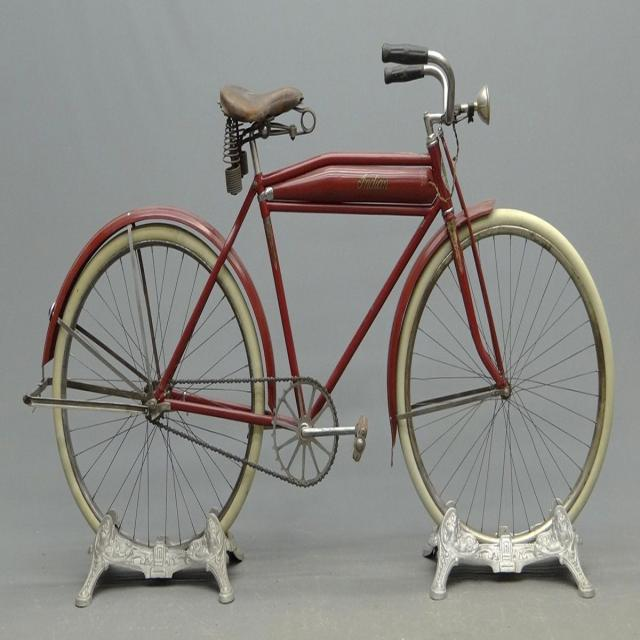bicycle: (25, 45, 614, 605)
